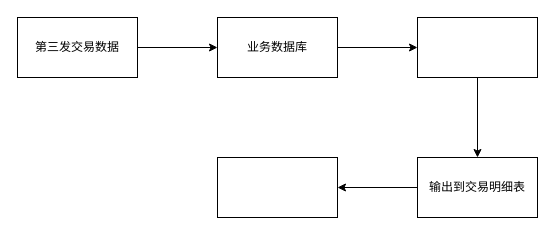
Some shapes in this 555 by 235 pixel diagram are drawn without their labels. Here are the shapes that lost their labels. From the top down, the centre of each, then its label:
[477,47]: 匹配数据基础信息（人、车、线、组织）
[277,187]: 查询交易明细表的数据
